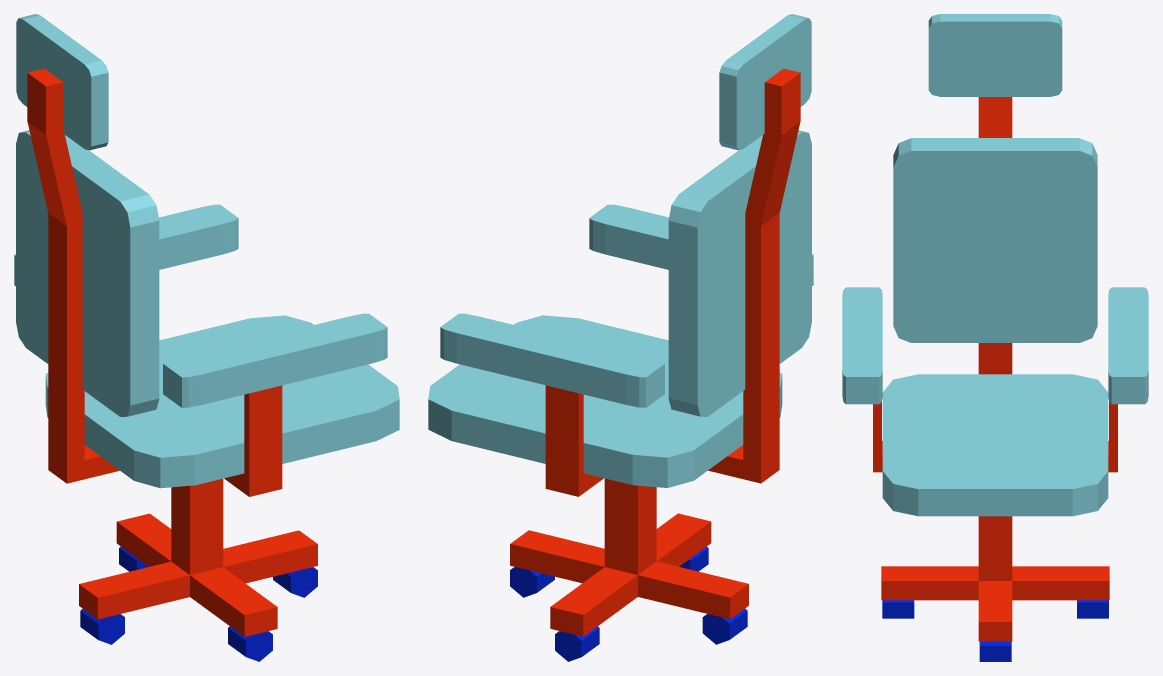
File: officeChair_Colored.fbx
3 views of the same model, side by side, from view 1: azimuth 30°, elevation 25°; view 2: azimuth 150°, elevation 25°; view 3: azimuth 270°, elevation 25° (orthographic). The views are drawn at different scales.
Parts seen in each view (by area): view 1: OfficeChair; view 2: OfficeChair; view 3: OfficeChair.
Part boxes in pixels (left/top/right/bottom): OfficeChair: left=14, top=14, right=399, bottom=661; OfficeChair: left=428, top=14, right=813, bottom=661; OfficeChair: left=842, top=14, right=1148, bottom=661.
Bounding box in the file's own units: 169 × 310 × 158.
